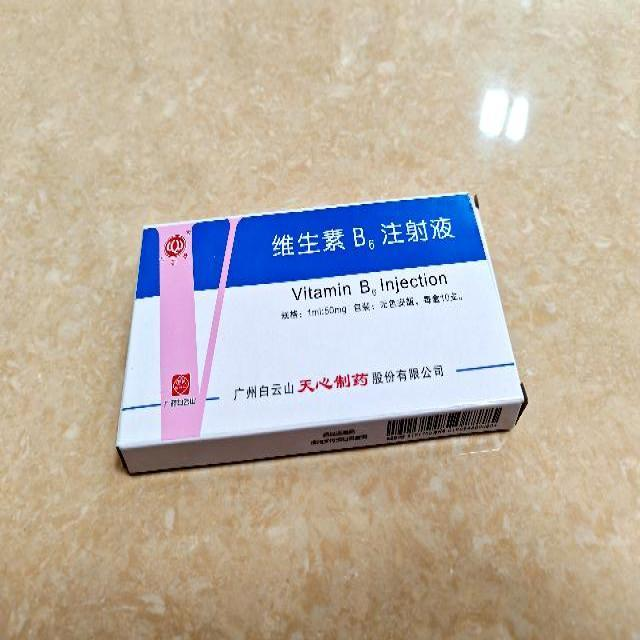box: (120, 192, 522, 475)
